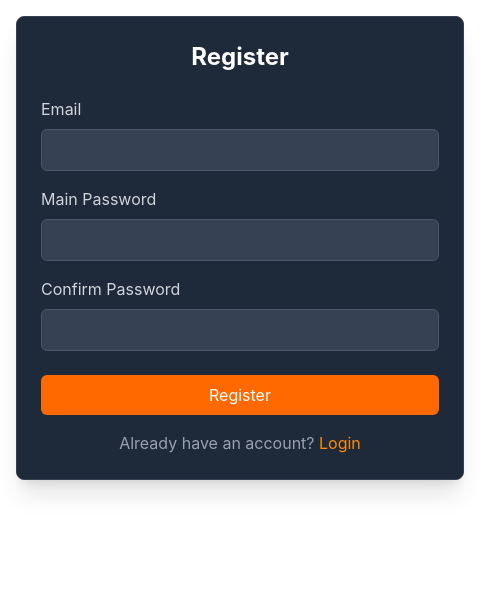
Scenario: RegisterBox › displays validation errors for empty fields
Click the button "Register". click: click(240, 395)
box: [41, 375, 439, 415]
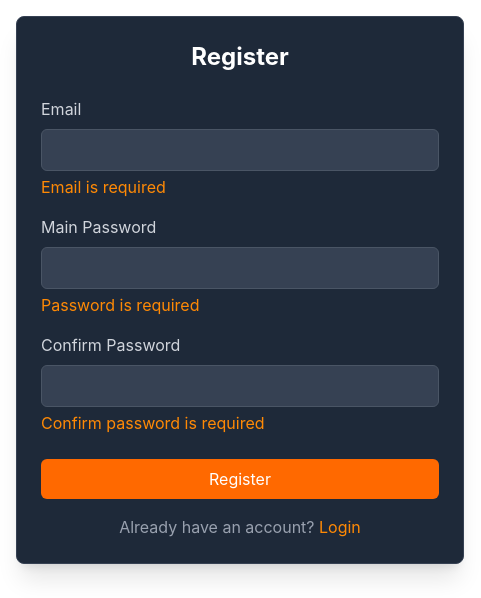
Now the text "Email is required" is shown, box [41, 177, 166, 197]
Now the text "Password is required" is shown, box [41, 295, 200, 315]
Now the text "Confirm password is required" is shown, box [41, 413, 264, 433]
